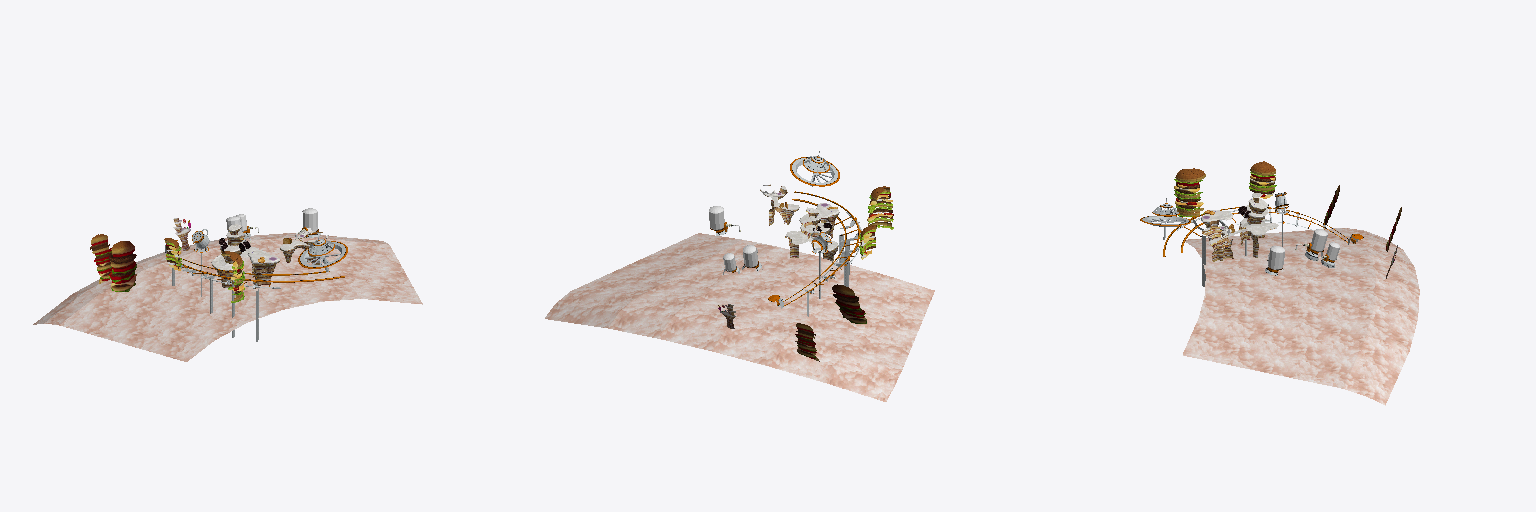
The picture shows the model from 3 angles: view 1: azimuth 30°, elevation 25°; view 2: azimuth 150°, elevation 25°; view 3: azimuth 270°, elevation 25°; orthographic projection.
Visible parts, largest first — view 1: polygon117, polygon71, polygon72; view 2: polygon117, polygon71, polygon27, polygon72; view 3: polygon117, polygon27.
Part boxes in pixels (x1,y1,x2,y2): polygon117: (33,233,422,361); polygon71: (109,241,136,291); polygon72: (90,234,111,283); polygon117: (545,233,934,401); polygon71: (832,284,866,323); polygon27: (786,207,837,251); polygon72: (795,323,819,361); polygon117: (1183,228,1419,405); polygon27: (1233,193,1278,234).
Size of the model in its own units: 474 by 175 by 336.
Materials: 40 (33 with a texture image).